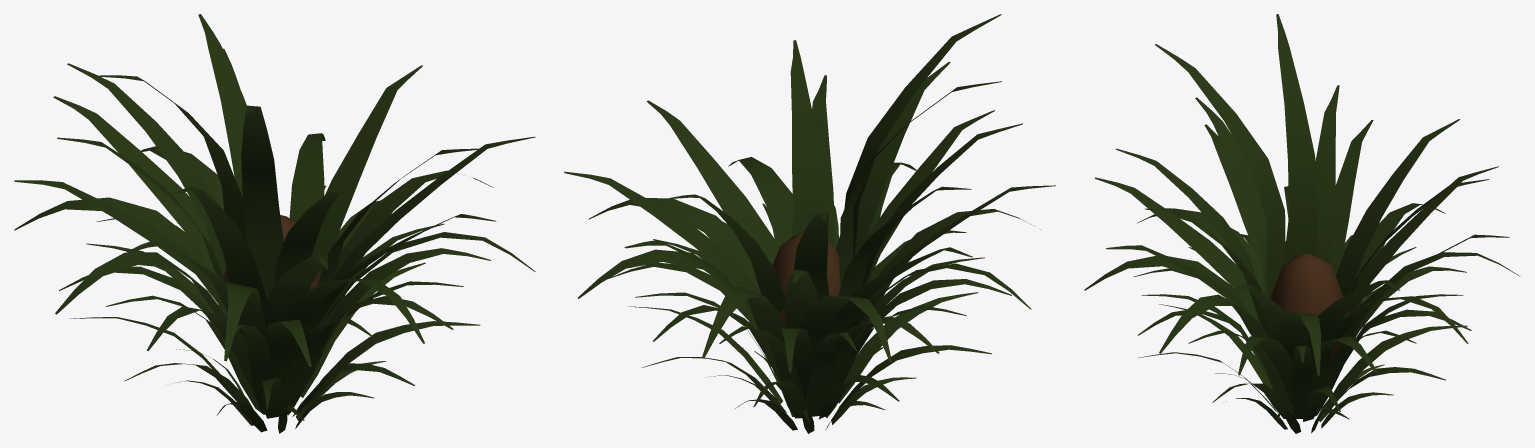
File: SM_Large_Bush_B.fbx
3 renders of one model, left to right at view 1: azimuth 30°, elevation 25°; view 2: azimuth 150°, elevation 25°; view 3: azimuth 270°, elevation 25°, orthographic. The views are drawn at different scales.
Visible parts, largest first — view 1: SM_Large_Bush_B.057; view 2: SM_Large_Bush_B.057; view 3: SM_Large_Bush_B.057.
Part boxes in pixels (box(x1,y1,x2,y2)): SM_Large_Bush_B.057: box(14, 14, 535, 433); SM_Large_Bush_B.057: box(564, 14, 1055, 433); SM_Large_Bush_B.057: box(1084, 14, 1520, 433).
Bounding box in the file's own units: 262 × 262 × 222.
